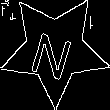N_N: (29, 20, 80, 79)
